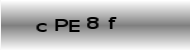8: (86, 16, 99, 29)
E: (68, 18, 80, 33)
P: (52, 18, 68, 31)
c: (35, 22, 47, 32)
f: (107, 16, 117, 30)
